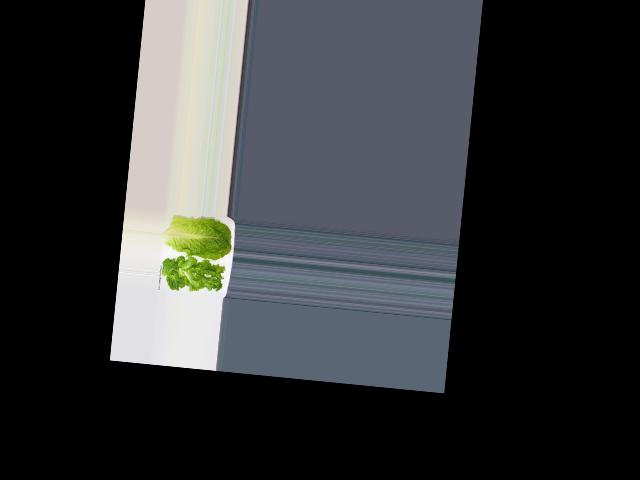lettuce: (161, 255, 226, 298)
